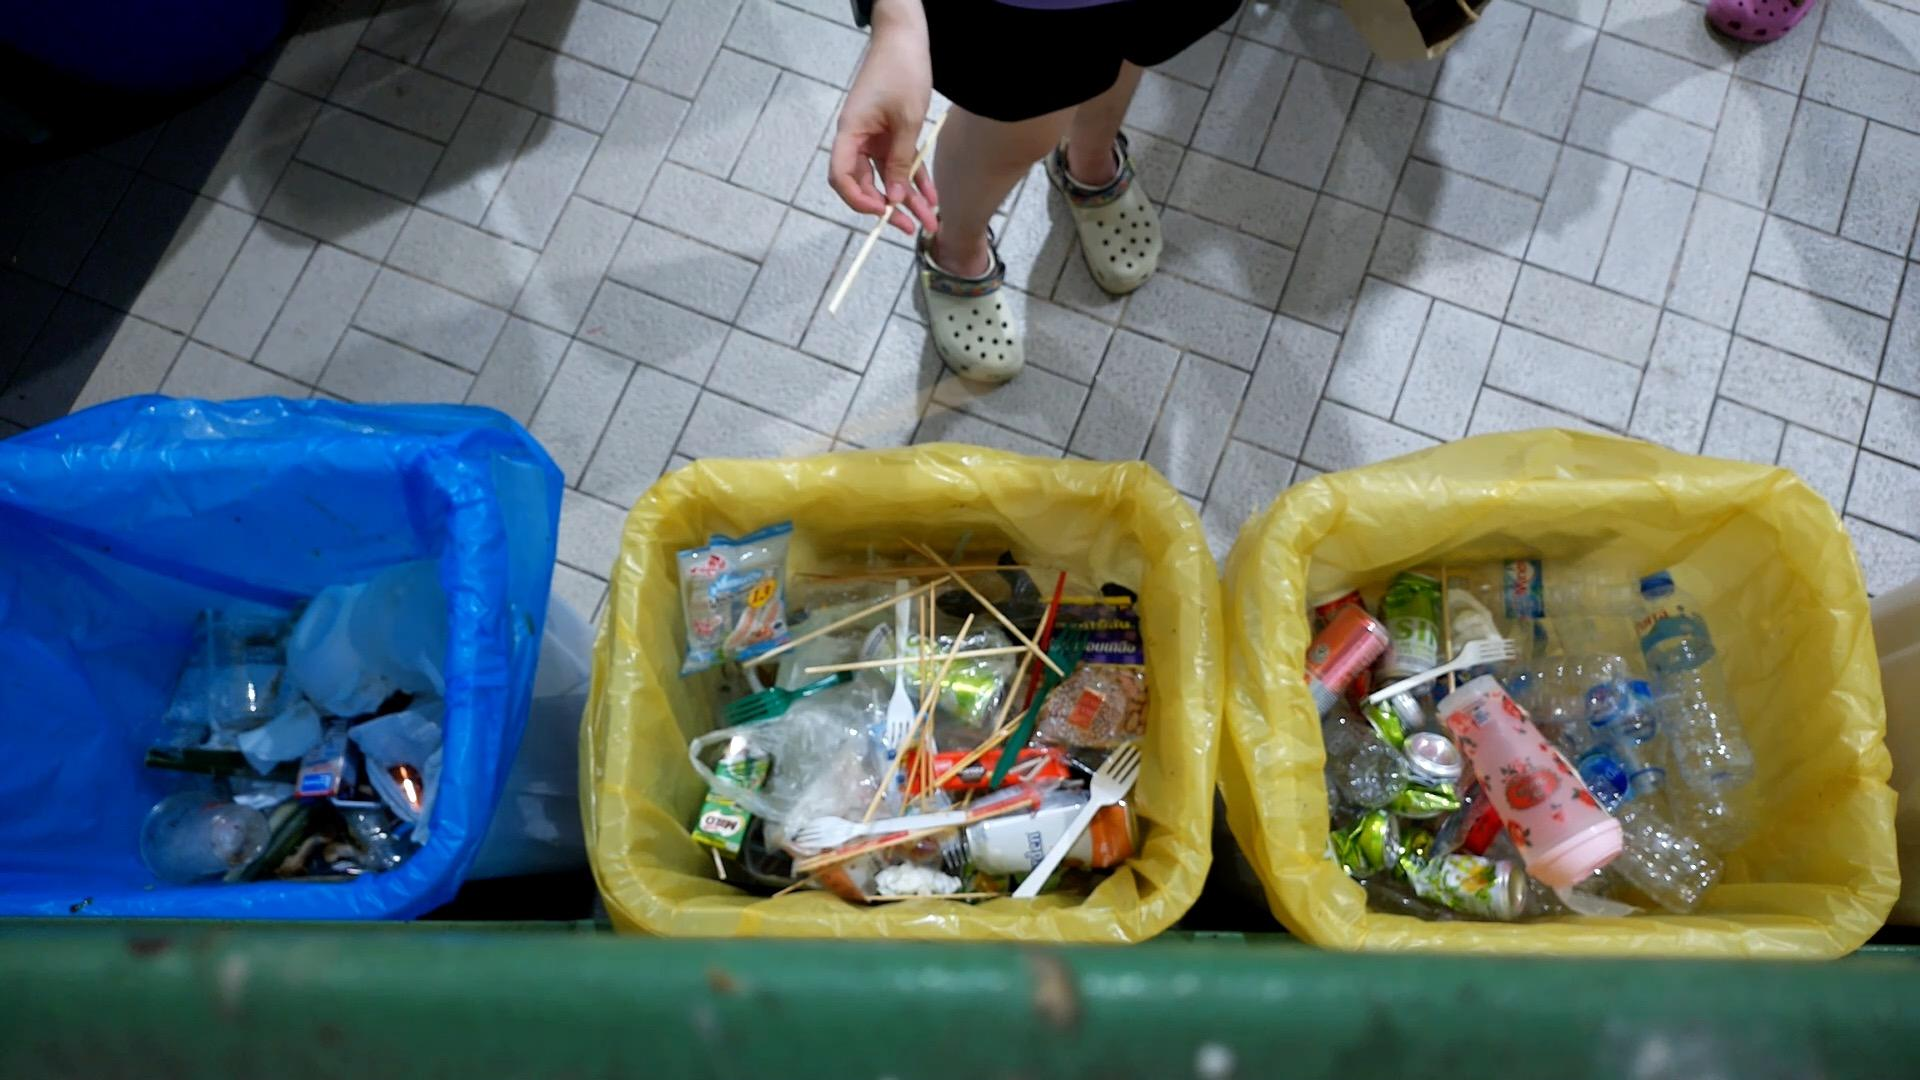can: (968, 786, 1142, 876), (1398, 824, 1530, 919), (1307, 601, 1394, 720), (1378, 571, 1443, 699), (1391, 736, 1465, 820), (1328, 807, 1402, 881), (1360, 683, 1428, 750)
food container: (287, 582, 394, 717)
milk carton: (691, 733, 774, 864), (294, 717, 357, 808)
plastic bag: (679, 632, 893, 825), (348, 558, 450, 699), (349, 699, 448, 840)
plastic bottle: (1631, 571, 1758, 795), (1543, 572, 1669, 796), (1437, 558, 1669, 621)
plastic cup: (1435, 673, 1625, 891), (141, 787, 272, 885), (195, 617, 287, 732)
plastic cutlery: (1011, 741, 1143, 898), (989, 621, 1091, 790), (1366, 638, 1516, 707), (723, 666, 855, 729), (795, 807, 968, 851), (886, 580, 918, 753), (934, 588, 1044, 618)
snack packaging: (144, 612, 313, 787), (676, 517, 794, 675), (1040, 595, 1150, 748), (906, 746, 1068, 795)
sticks: (839, 107, 963, 328), (862, 615, 969, 824), (794, 789, 1036, 876), (919, 538, 1065, 676), (738, 576, 949, 665), (965, 601, 1052, 810), (909, 705, 1033, 807), (800, 645, 1030, 675), (918, 579, 938, 812), (806, 563, 1029, 583), (836, 891, 1006, 905)
tissue paper: (237, 700, 323, 779), (874, 865, 963, 899)
